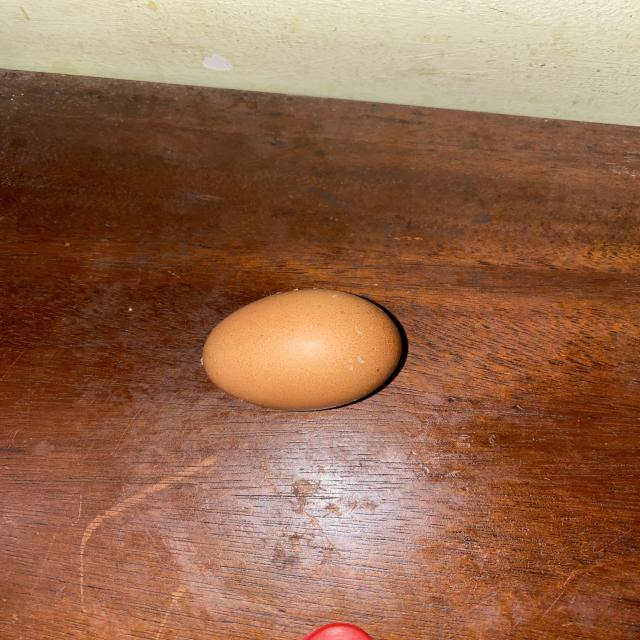egg: (194, 282, 415, 414)
